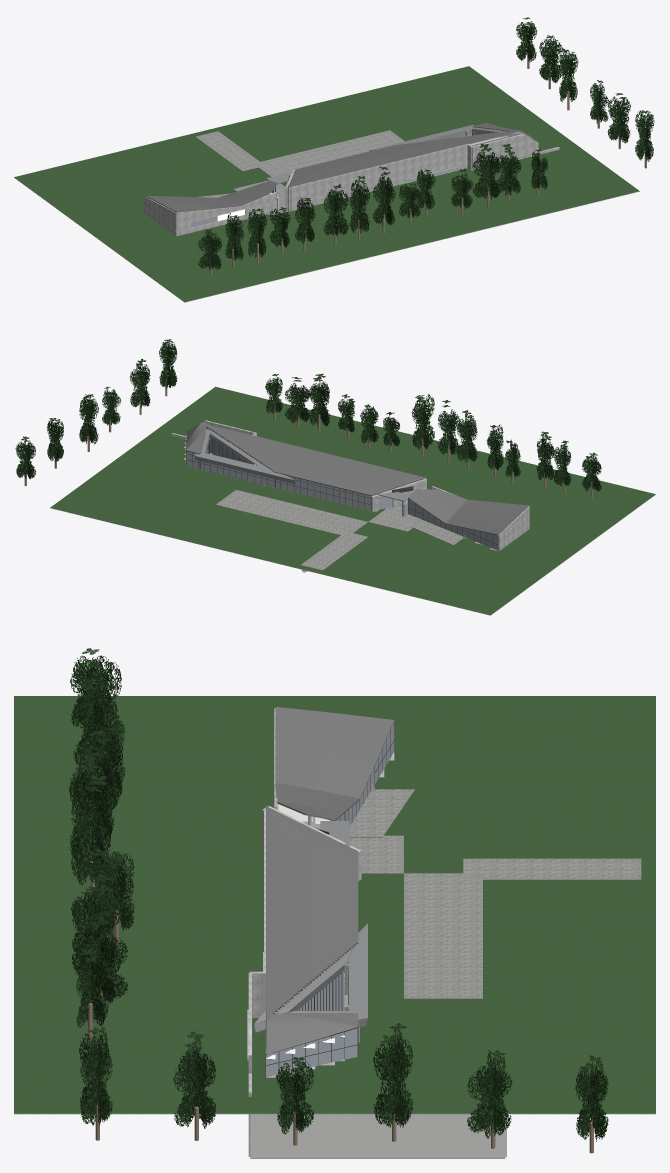
The model's file is design2121.glb.
The picture shows the model from 3 angles, top to bottom: view 1: azimuth 30°, elevation 25°; view 2: azimuth 150°, elevation 25°; view 3: azimuth 270°, elevation 25°; orthographic projection. The views are drawn at different scales.
Parts seen in each view (by area): view 1: SM_Court_Planter, SM_Basement_Wall_West, SM_G3_Terrace, SM_Museum_Roof, SM_Cafe_Roof, SM_Tree_Card_24.063770542484683_-24.06324314423717_0, SM_Court_Roof_Rim, SM_Tree_Card_-9.637062148031259_-24.23072828442381_0, SM_Tree_Card_58.79175841665008_-14_0, SM_Tree_Card_0.8332956482480908_-24.507064206110588_0, SM_Tree_Card_-4.833848214374304_-24.902714467465923_0, SM_Tree_Card_28.739358182986876_-23.772648701908565_0 (+15 smaller); view 2: SM_Court_Planter, SM_Museum_Roof, SM_G3_Terrace, SM_Cafe_Entrance_Door, SM_Cafe_Roof, SM_Basement_Wall_West, SM_Court_Roof_Rim, SM_Atrium_Table_0_Base, SM_Tree_Card_0.8332956482480908_-24.507064206110588_0, SM_Tree_Card_24.063770542484683_-24.06324314423717_0, SM_Tree_Card_-9.637062148031259_-24.23072828442381_0, SM_Tree_Card_-4.833848214374304_-24.902714467465923_0 (+17 smaller); view 3: SM_Court_Planter, SM_G3_Terrace, SM_Museum_Roof, SM_Basement_Wall_East, SM_Cafe_Roof, SM_Cafe_Entrance_Door, SM_Court_Roof_Rim, SM_Tree_Card_0.8332956482480908_-24.507064206110588_0, SM_Tree_Card_59.01520374116998_6_0, SM_Tree_Card_58.79175841665008_-14_0, SM_Tree_Card_60.69928228147163_16_0, SM_Tree_Card_58.72505945333288_-24_0 (+17 smaller).
Boxes of the visible parts, left/top/right/bottom form: SM_Court_Planter: left=14, top=66, right=639, bottom=301; SM_Basement_Wall_West: left=144, top=134, right=559, bottom=236; SM_G3_Terrace: left=196, top=130, right=404, bottom=215; SM_Museum_Roof: left=288, top=123, right=534, bottom=187; SM_Cafe_Roof: left=145, top=181, right=277, bottom=212; SM_Tree_Card_24.063770542484683_-24.06324314423717_0: left=472, top=144, right=501, bottom=199; SM_Court_Roof_Rim: left=266, top=125, right=523, bottom=183; SM_Tree_Card_-9.637062148031259_-24.23072828442381_0: left=323, top=184, right=348, bottom=235; SM_Tree_Card_58.79175841665008_-14_0: left=607, top=93, right=630, bottom=143; SM_Tree_Card_0.8332956482480908_-24.507064206110588_0: left=373, top=166, right=395, bottom=225; SM_Tree_Card_-4.833848214374304_-24.902714467465923_0: left=349, top=176, right=369, bottom=233; SM_Tree_Card_28.739358182986876_-23.772648701908565_0: left=495, top=144, right=521, bottom=195; SM_Court_Planter: left=50, top=386, right=655, bottom=614; SM_Museum_Roof: left=186, top=423, right=425, bottom=496; SM_G3_Terrace: left=216, top=490, right=463, bottom=570; SM_Cafe_Entrance_Door: left=186, top=427, right=497, bottom=550; SM_Cafe_Roof: left=408, top=489, right=528, bottom=534; SM_Basement_Wall_West: left=171, top=420, right=529, bottom=571; SM_Court_Roof_Rim: left=195, top=422, right=409, bottom=501; SM_Atrium_Table_0_Base: left=186, top=428, right=498, bottom=550; SM_Tree_Card_0.8332956482480908_-24.507064206110588_0: left=411, top=394, right=434, bottom=449; SM_Tree_Card_24.063770542484683_-24.06324314423717_0: left=309, top=373, right=329, bottom=426; SM_Tree_Card_-9.637062148031259_-24.23072828442381_0: left=456, top=410, right=477, bottom=462; SM_Tree_Card_-4.833848214374304_-24.902714467465923_0: left=438, top=400, right=460, bottom=454; SM_Court_Planter: left=14, top=696, right=655, bottom=1113; SM_G3_Terrace: left=349, top=789, right=641, bottom=998; SM_Museum_Roof: left=265, top=806, right=358, bottom=1055; SM_Basement_Wall_East: left=250, top=816, right=506, bottom=1157; SM_Cafe_Roof: left=275, top=707, right=394, bottom=820; SM_Cafe_Entrance_Door: left=266, top=722, right=393, bottom=1077; SM_Court_Roof_Rim: left=252, top=821, right=367, bottom=1032; SM_Tree_Card_0.8332956482480908_-24.507064206110588_0: left=71, top=773, right=112, bottom=885; SM_Tree_Card_59.01520374116998_6_0: left=373, top=1023, right=413, bottom=1127; SM_Tree_Card_58.79175841665008_-14_0: left=173, top=1031, right=215, bottom=1128; SM_Tree_Card_60.69928228147163_16_0: left=467, top=1050, right=512, bottom=1138; SM_Tree_Card_58.72505945333288_-24_0: left=79, top=1027, right=112, bottom=1125.
Size of what is drawn, in the model's own units: 112 by 22.05 by 65.
Materials: 49 (10 with a texture image).
